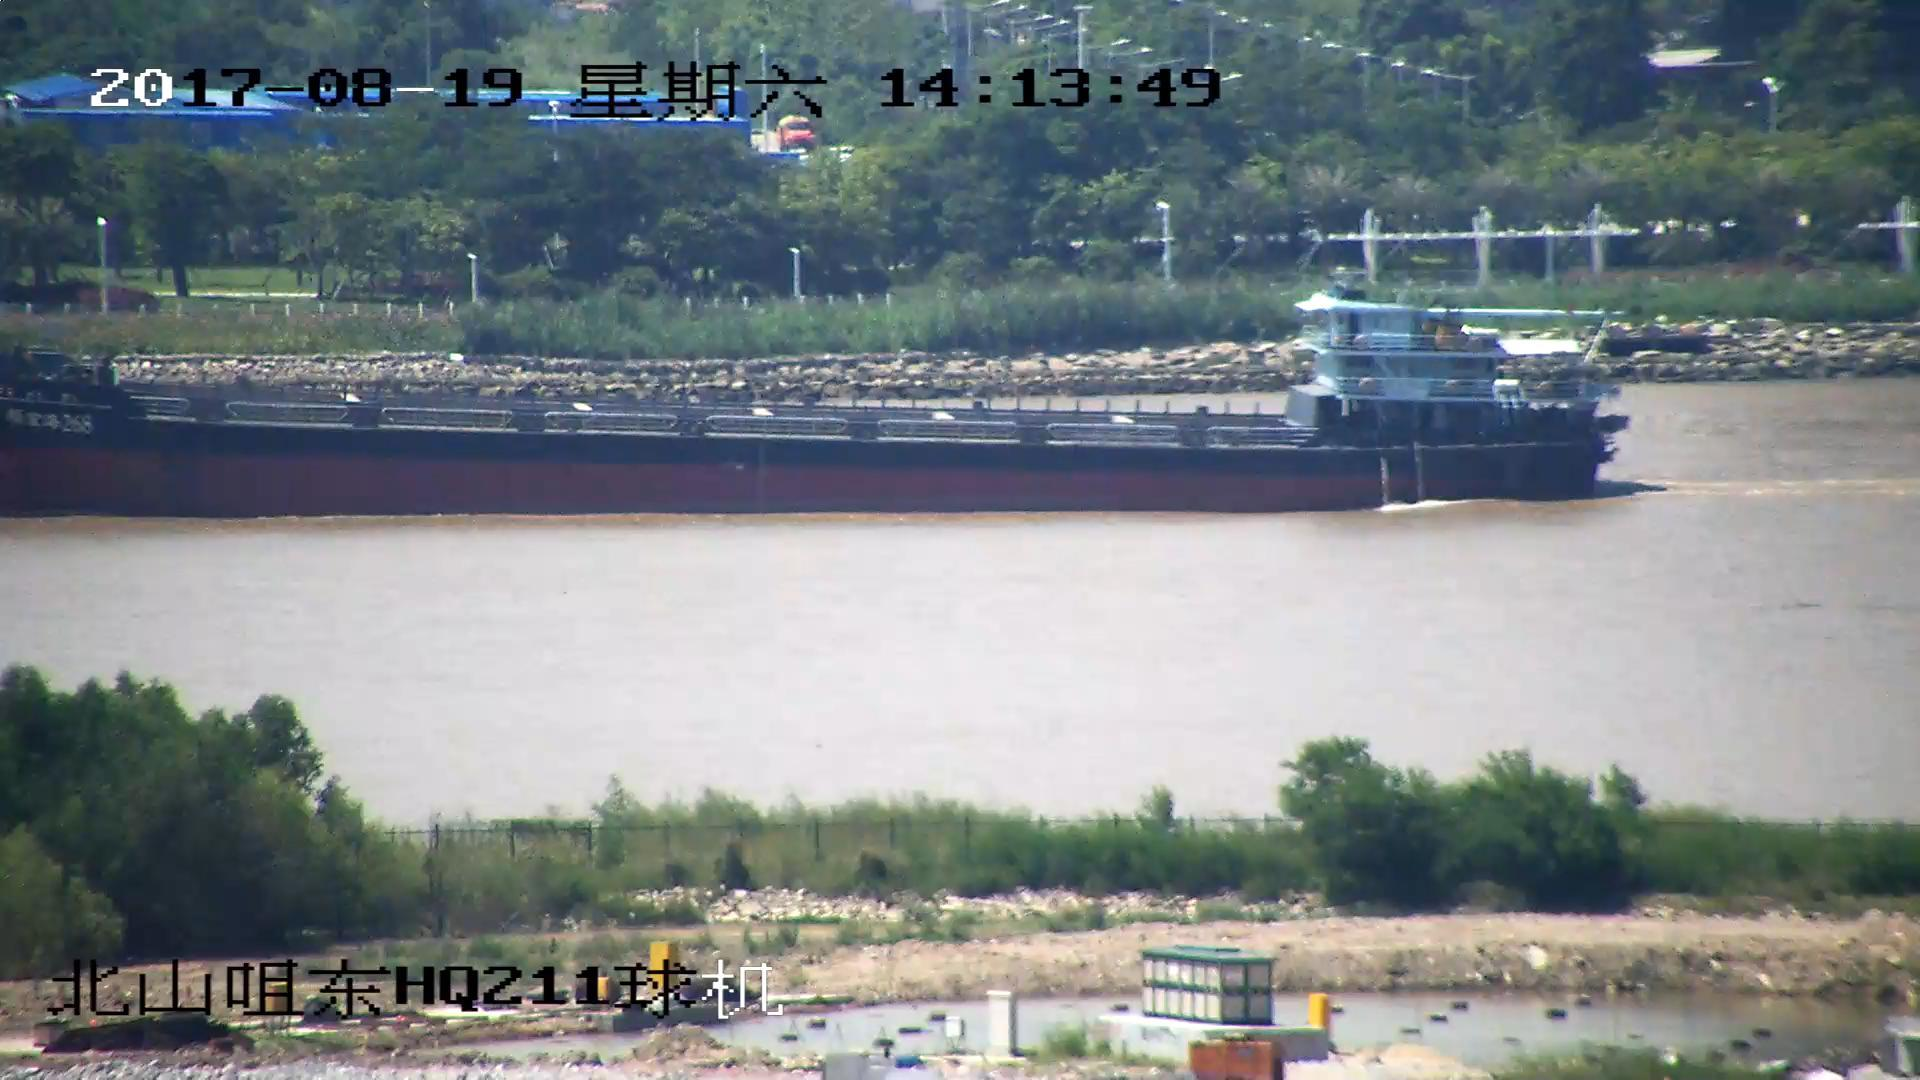Ship: (3, 276, 1638, 518)
